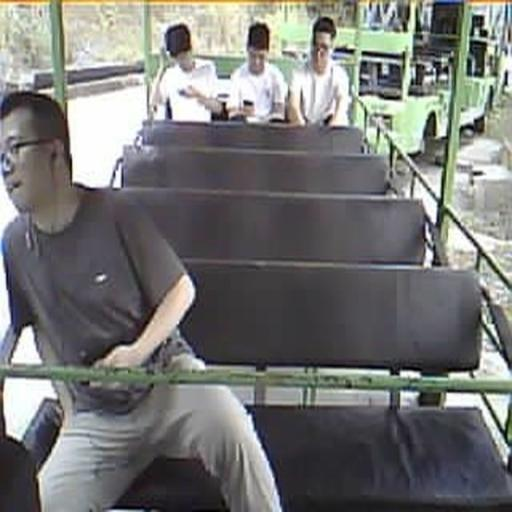persona: (0, 88, 284, 511), (287, 16, 352, 128), (150, 22, 221, 122), (227, 21, 288, 123)
